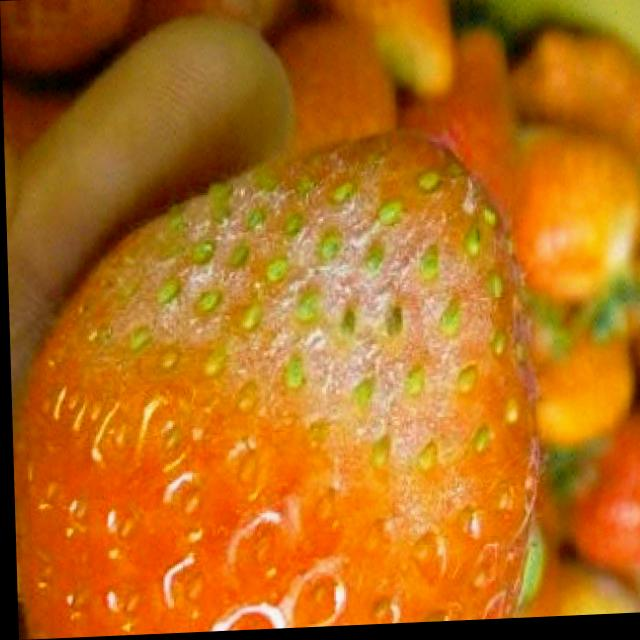Powdery Mildew Fruit: (21, 130, 537, 628)
